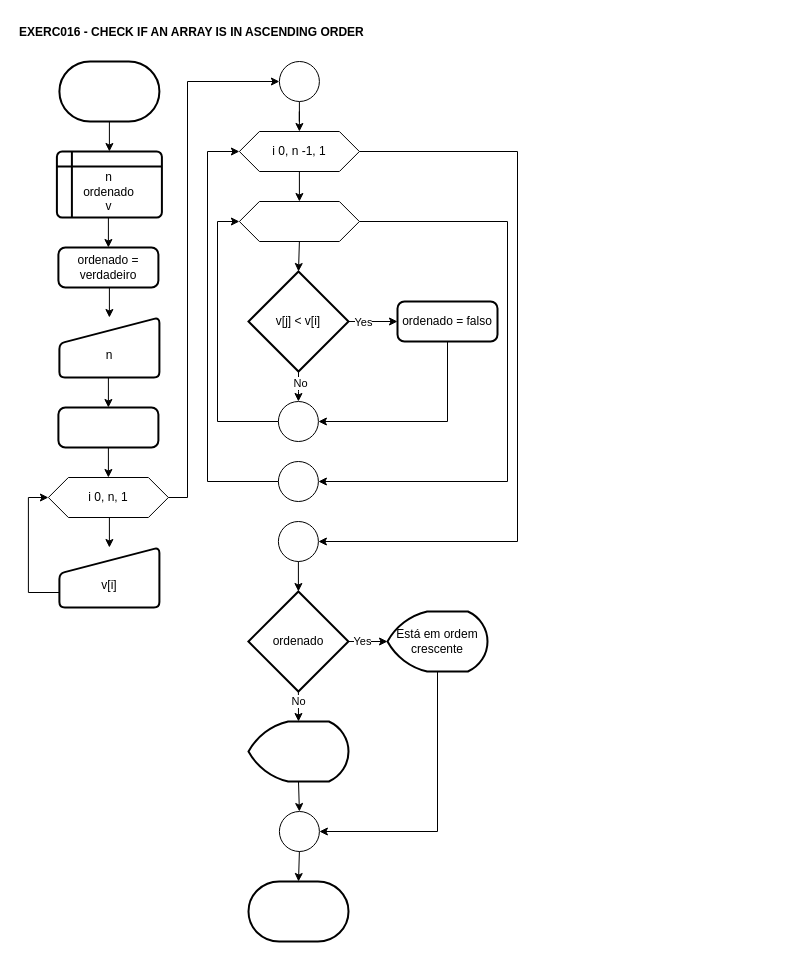
Some shapes in this 794 by 959 pixel diagram are drawn without their labels. Each missing label, with the centre of its shape:
j i+1, j < n, 1: pixel 298 221
Não está em ordem crescente: pixel 298 751
Start: pixel 109 91
Stop: pixel 298 911
v[n]: pixel 108 427
